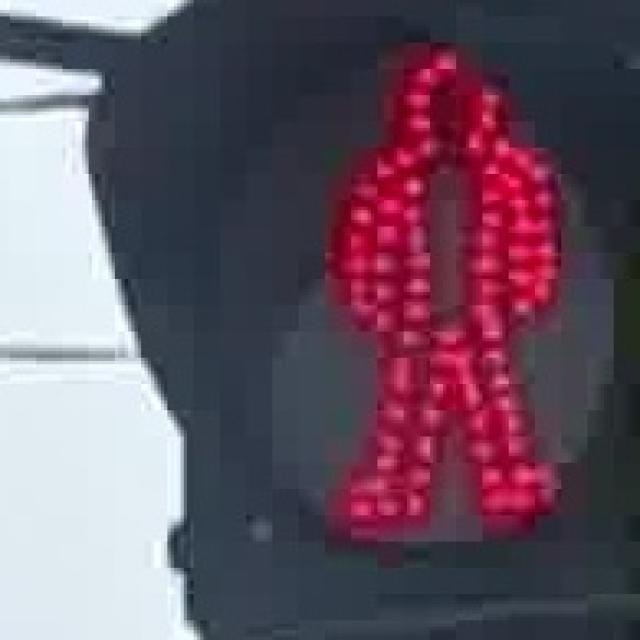red-crossing: (295, 19, 591, 554)
